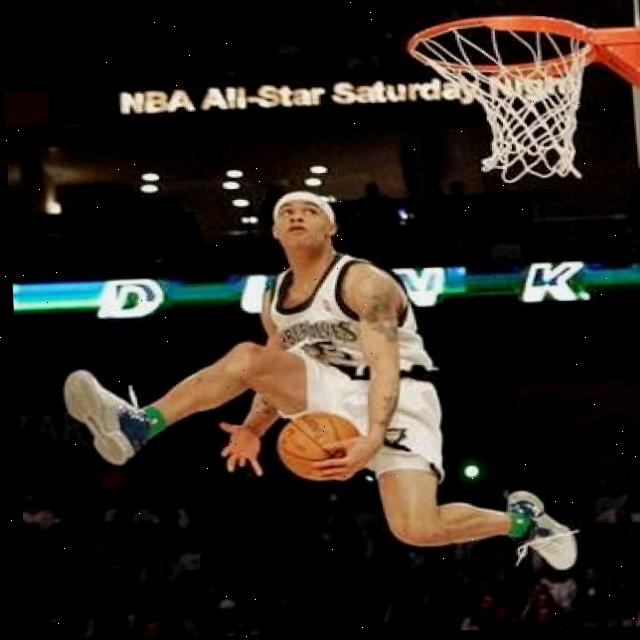basketball: (275, 409, 357, 481)
hoop: (407, 12, 605, 187)
